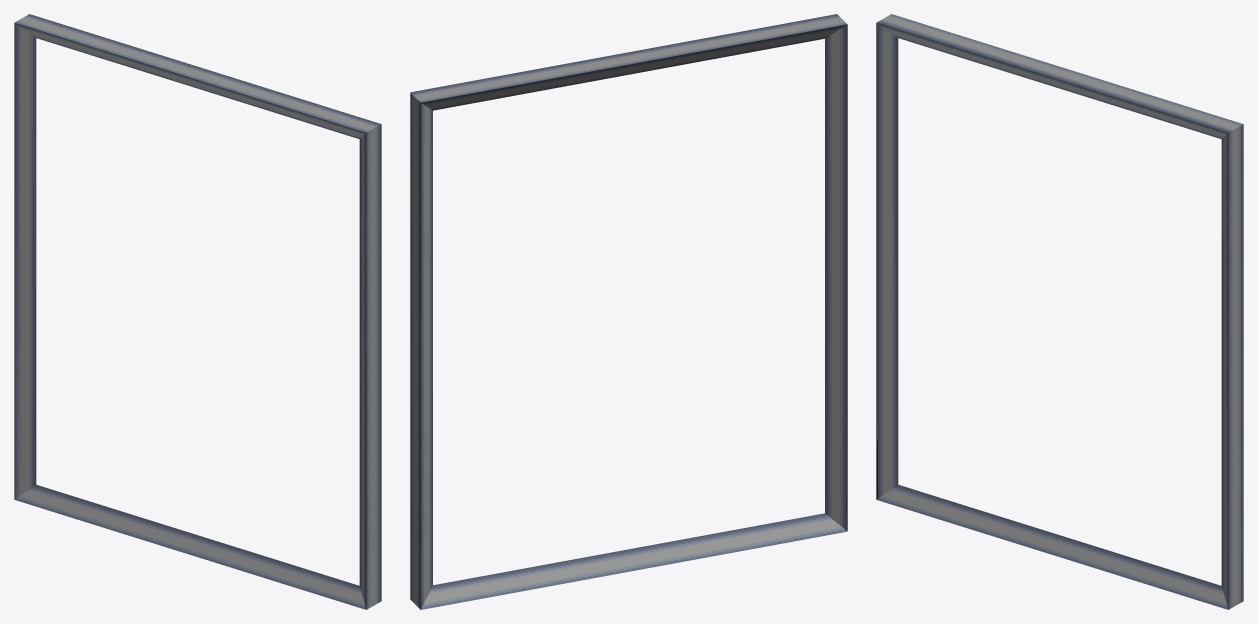
Rendered from primary_113.glb.
The picture shows the model from 3 angles, left to right: view 1: azimuth 90°, elevation 25°; view 2: azimuth 150°, elevation 25°; view 3: azimuth 270°, elevation 25°; orthographic projection. The views are drawn at different scales.
Parts seen in each view (by area): view 1: Object; view 2: Object; view 3: Object.
Boxes of the visible parts, x1,y1,x2,y2 form: Object: (14,14,381,609); Object: (410,14,847,609); Object: (876,14,1243,609).
Size of the model in its own units: 1.94 by 3.63 by 2.53.
Materials: 1 (1 with a texture image).
